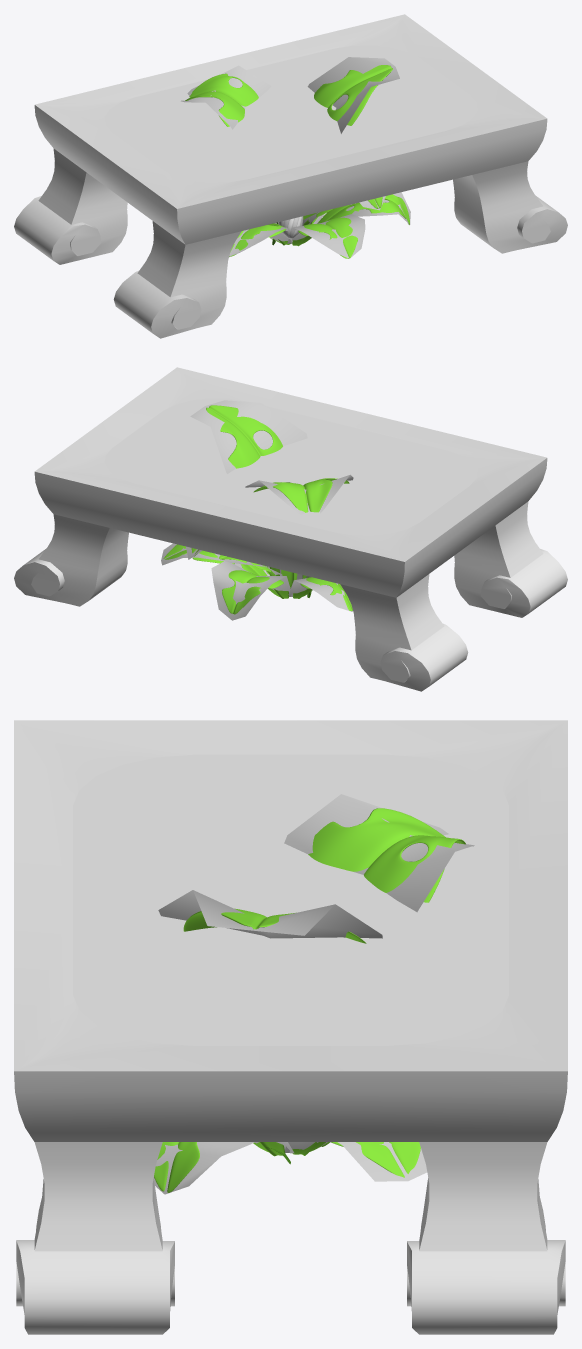
The model's file is GBush.fbx.
3 views of the same model, one above another, from view 1: azimuth 30°, elevation 25°; view 2: azimuth 150°, elevation 25°; view 3: azimuth 270°, elevation 25° (orthographic). The views are drawn at different scales.
Parts seen in each view (by area): view 1: Cube.001, GLeaf2.010, Plane.002; view 2: Cube.001, Plane.002, GLeaf2.010; view 3: Cube.001, Plane.002, GLeaf2.010.
Boxes of the visible parts, box(x1,y1,x2,y2) form: Cube.001: box(14, 14, 567, 338); GLeaf2.010: box(185, 65, 409, 258); Plane.002: box(181, 57, 410, 258); Cube.001: box(14, 367, 567, 691); Plane.002: box(161, 400, 353, 620); GLeaf2.010: box(163, 405, 352, 614); Cube.001: box(14, 720, 567, 1334); Plane.002: box(153, 794, 474, 1194); GLeaf2.010: box(154, 808, 465, 1192).
Size of the model in its own units: 338 by 123 by 200.
